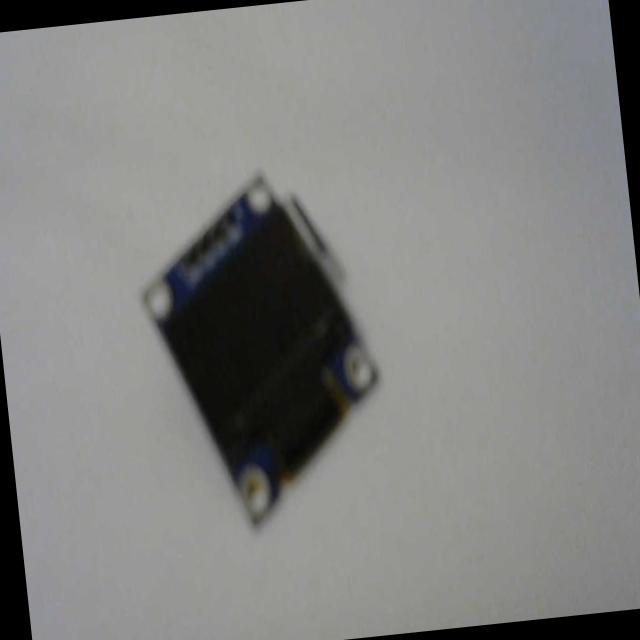oled: (127, 157, 398, 544)
